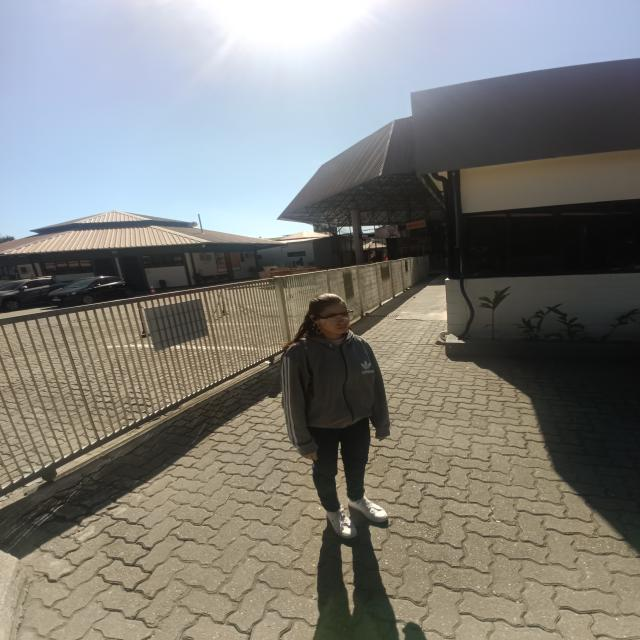oculos-epi: (316, 309, 354, 324)
